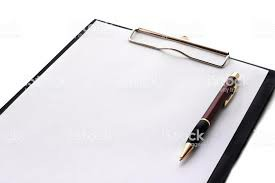pen: (182, 71, 242, 158)
